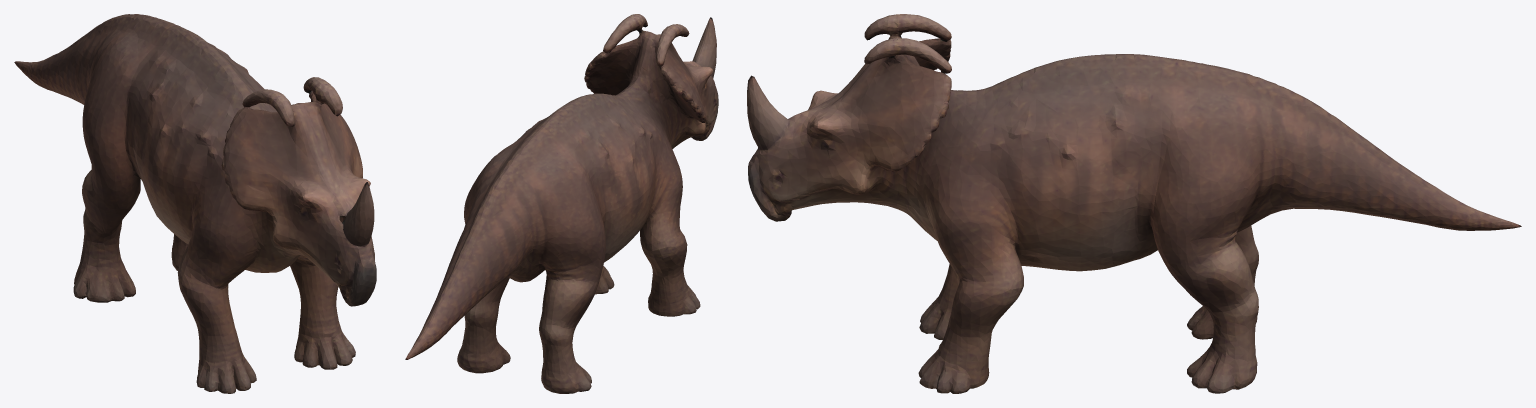
3 views of the same model, side by side, from view 1: azimuth 30°, elevation 25°; view 2: azimuth 150°, elevation 25°; view 3: azimuth 270°, elevation 25° (orthographic). The views are drawn at different scales.
Visible parts, largest first — view 1: world; view 2: world; view 3: world.
Boxes of the visible parts, x1=… form: world: x1=14, y1=14, x2=376, y2=393; world: x1=405, y1=14, x2=718, y2=393; world: x1=747, y1=14, x2=1521, y2=393.
Size of the model in its own units: 0.2483 by 0.4658 by 0.9948.
Materials: 1 (1 with a texture image).
